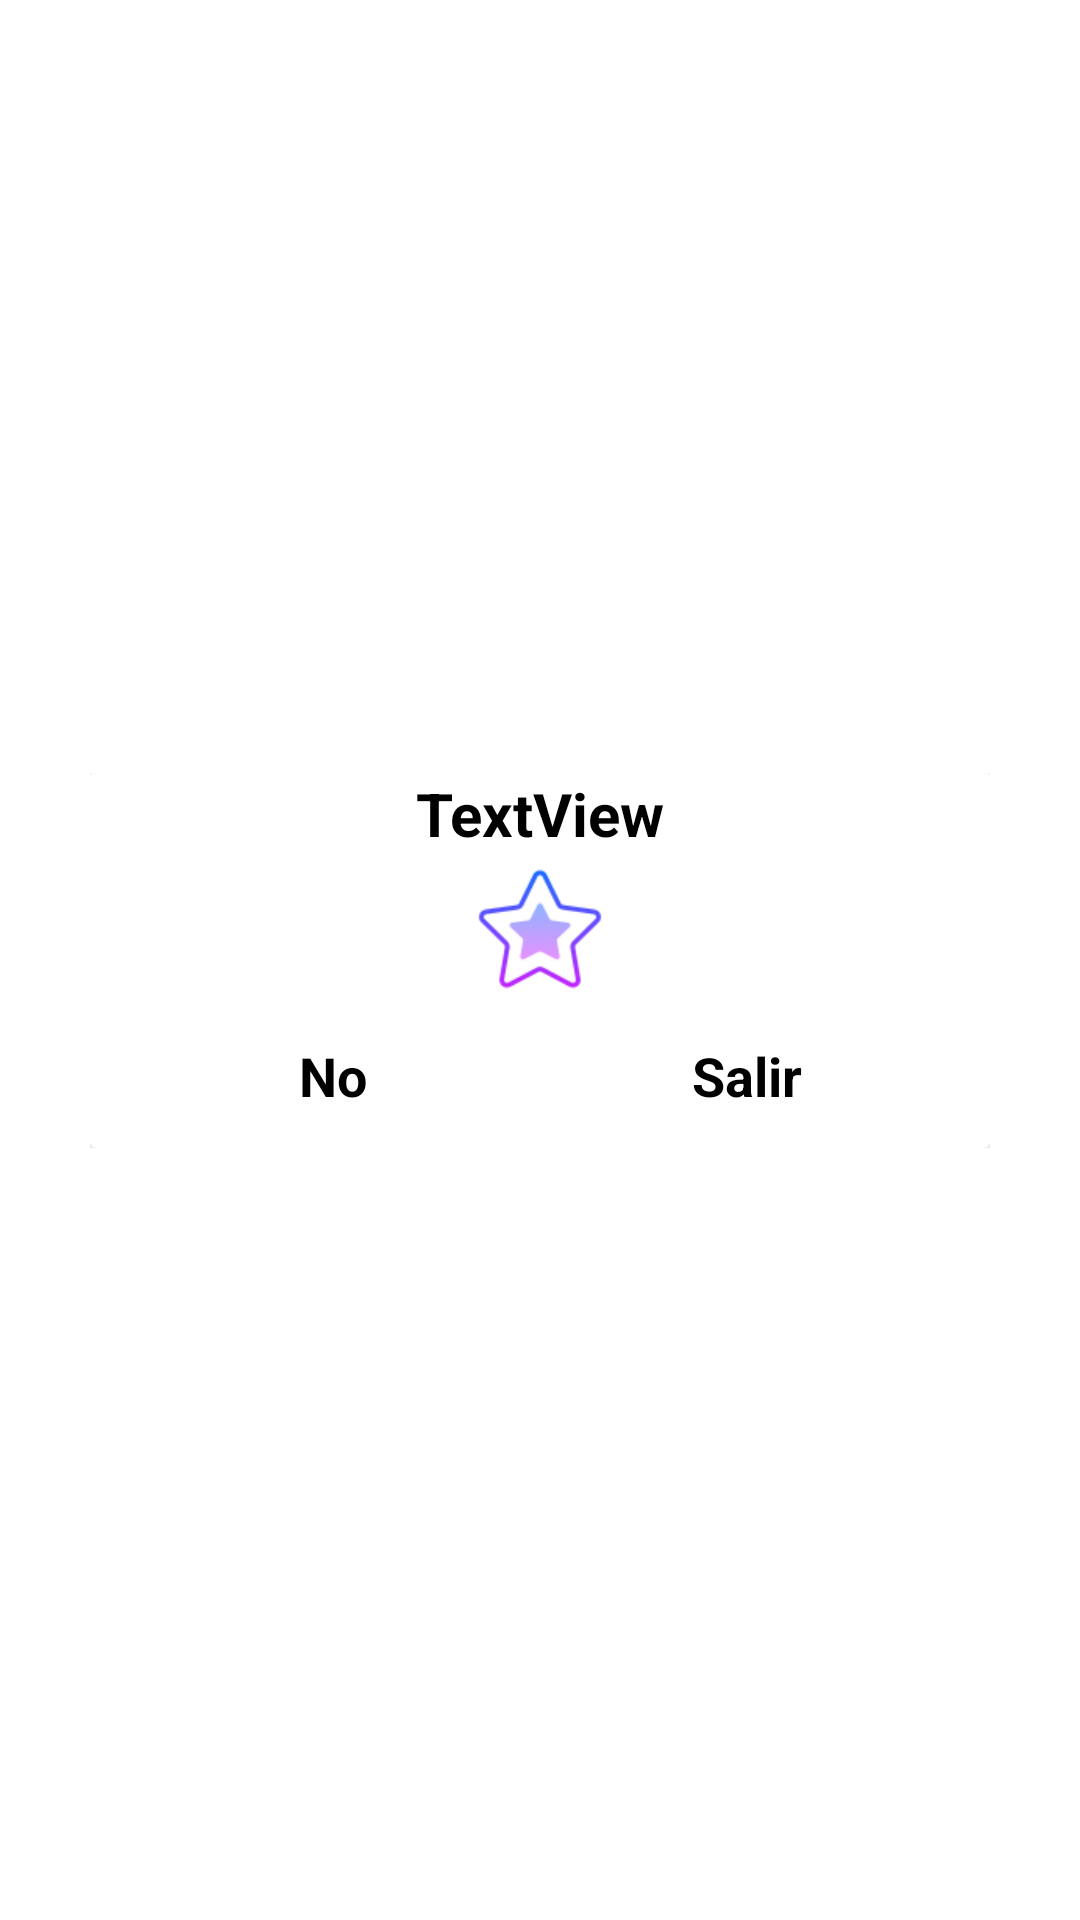

Icon bounding boxes for this 1080×1920 phone screenshot, format (x1, y1, x2, y2):
star: (479, 869, 601, 989)
